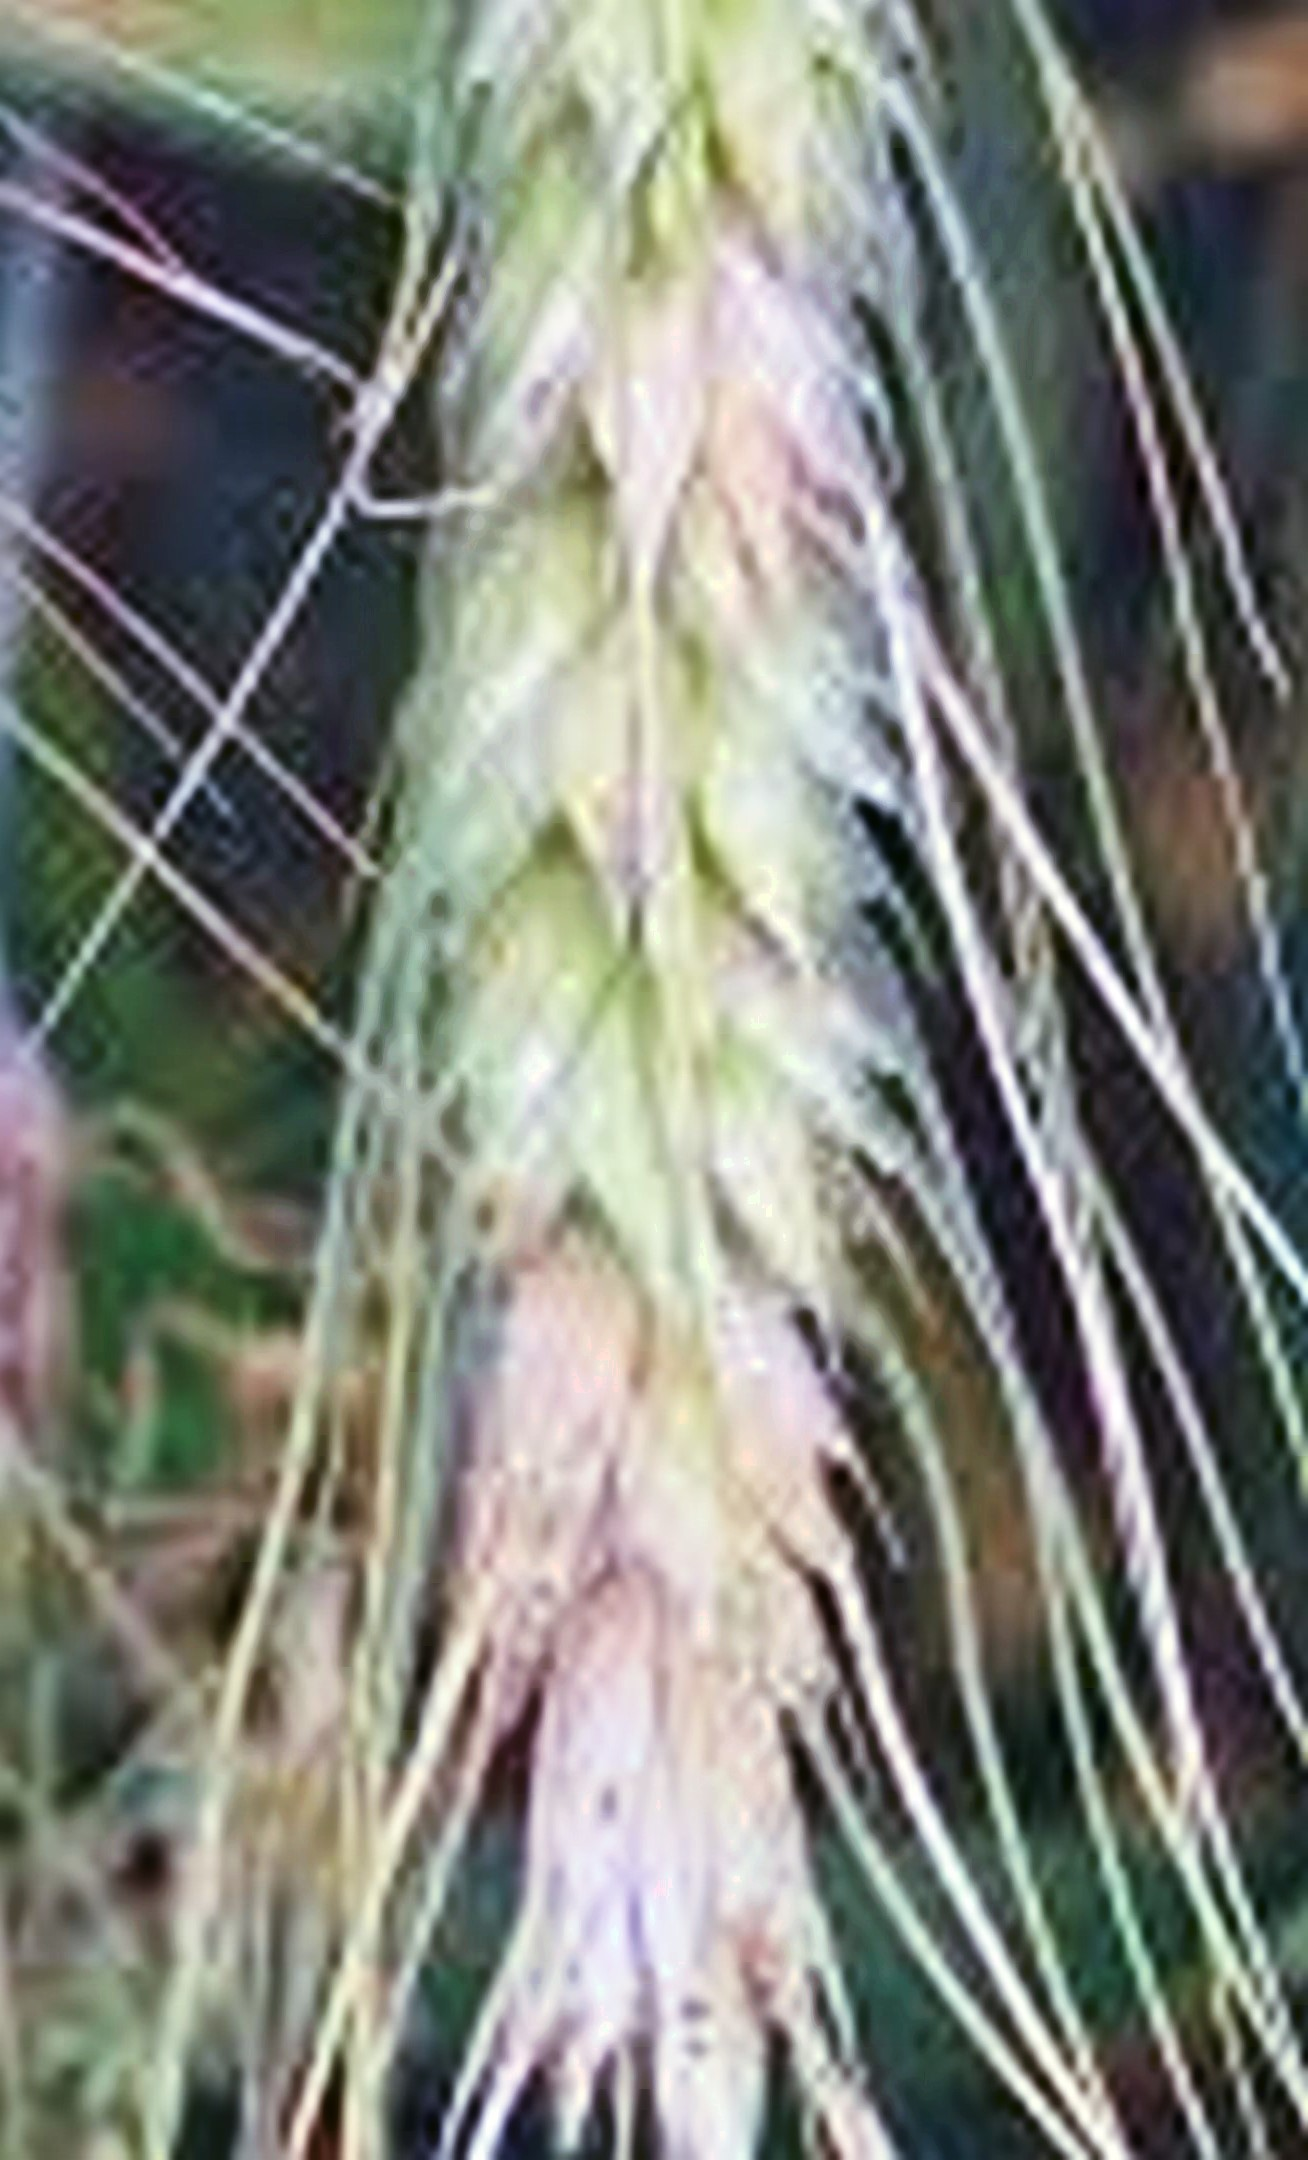Wheat scab: (359, 25, 969, 2091)
